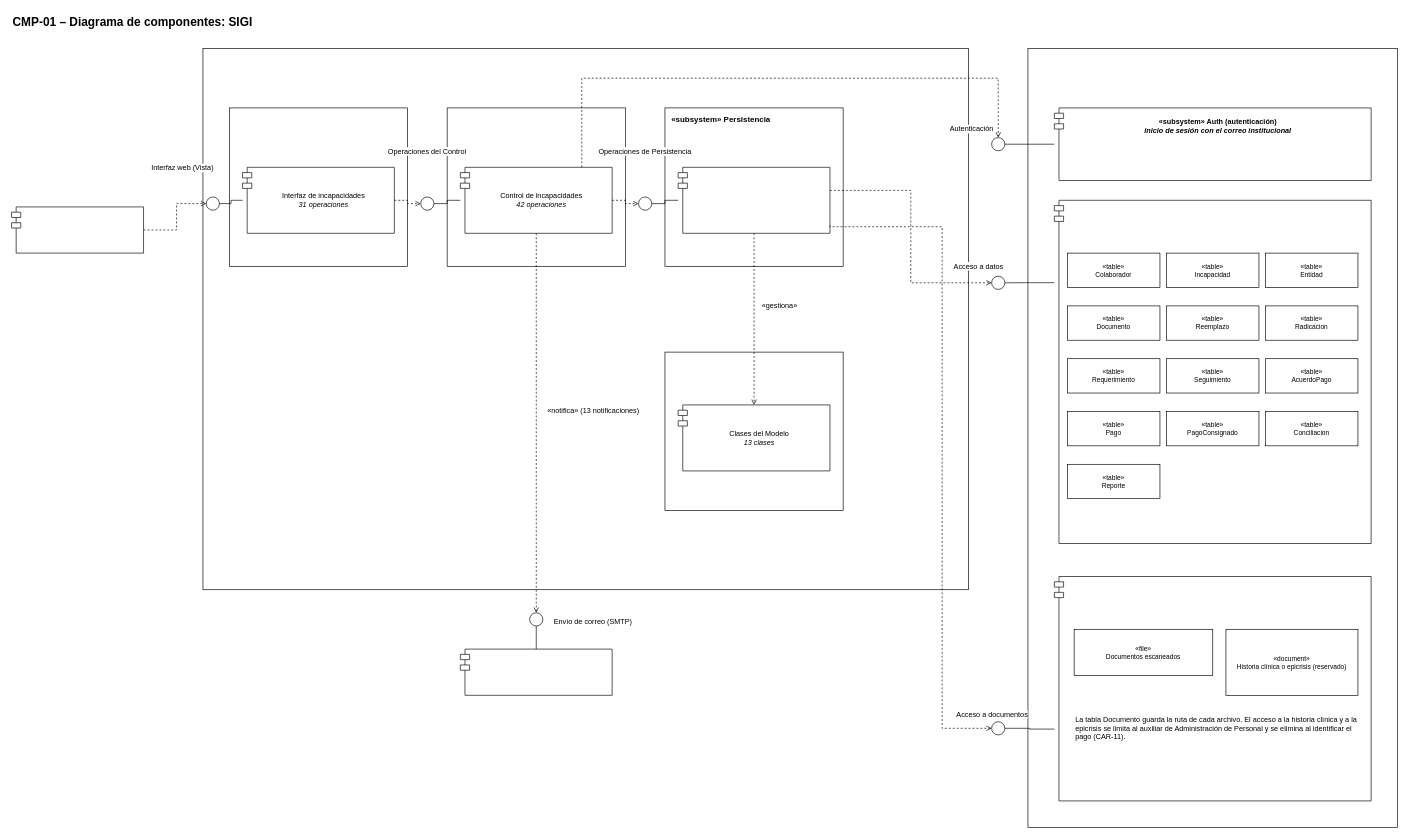
Image size: 1409x839. Some labels were removed from this diagram. Here are the shapes that lost their labels. From the top down, the box of each, then its label:
(229, 107, 408, 266): «subsystem» Vista
(446, 107, 625, 266): «subsystem» Controlador
(677, 167, 830, 233): Base de datos (persistencia) 38 operaciones
(11, 206, 144, 253): Navegador web (equipo del usuario)
(202, 48, 969, 590): «subsystem» Aplicación web SIGI (Node.js + Express)
(1054, 200, 1371, 544): «database» PostgreSQL
(664, 351, 843, 511): «subsystem» Modelo
(1027, 48, 1398, 827): «subsystem» Supabase (servicio en la nube)
(460, 648, 612, 695): Servicio de correo institucional (externo)
(1054, 576, 1371, 801): «subsystem» Storage (bucket privado)
